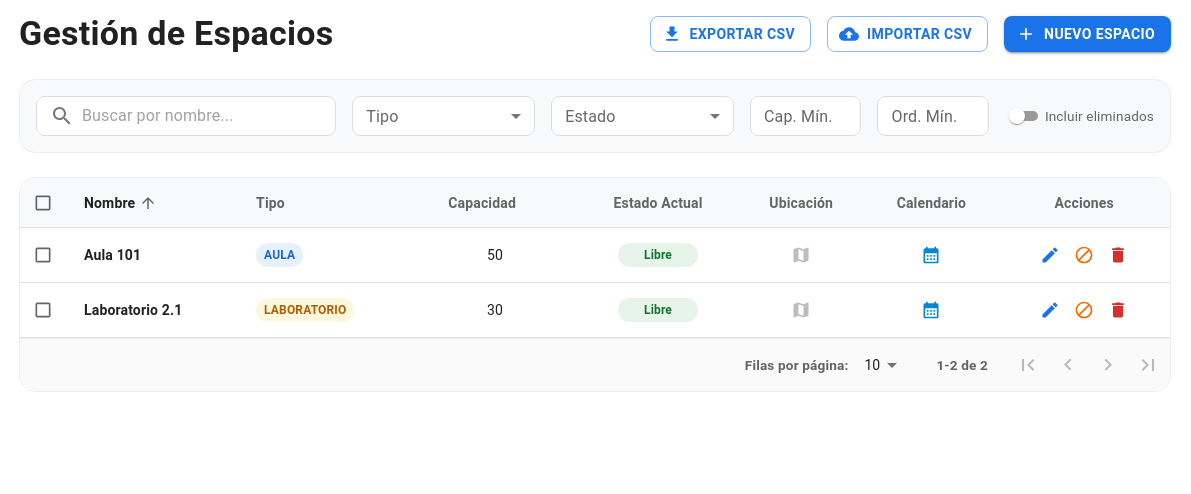
SpaceList › debe permitir seleccionar filas y mostrar banner masivo
Expected: the text "Aula 101" is shown, 84,245 -> 141,265
El 0 es el switch de eliminados, el 1 es el header, 2+ son filas
Click the 3rd checkbox at (43, 255), box 33,245 -> 53,265
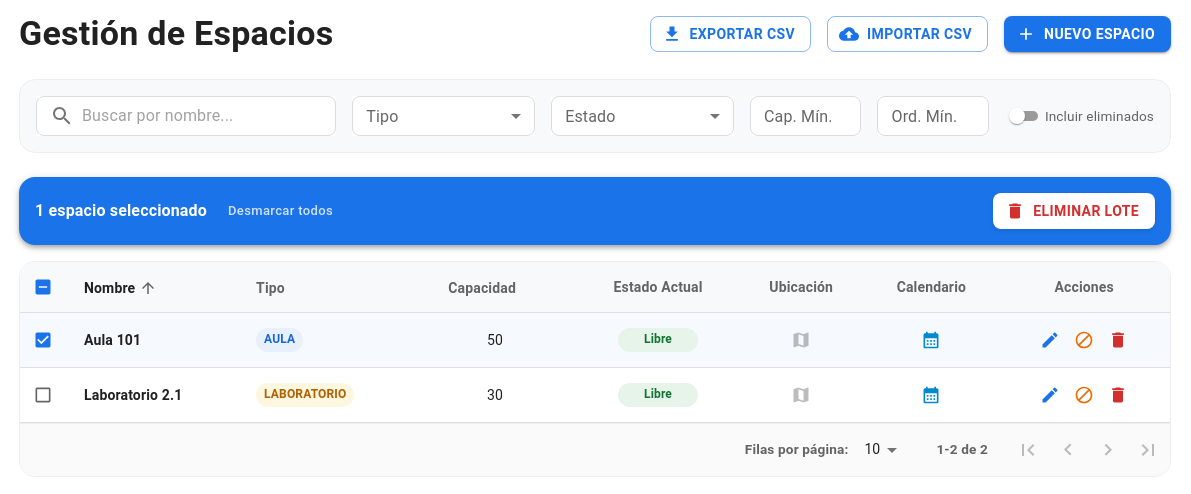
Result: the heading "1 espacio seleccionado" is shown at 35,197 -> 207,225
